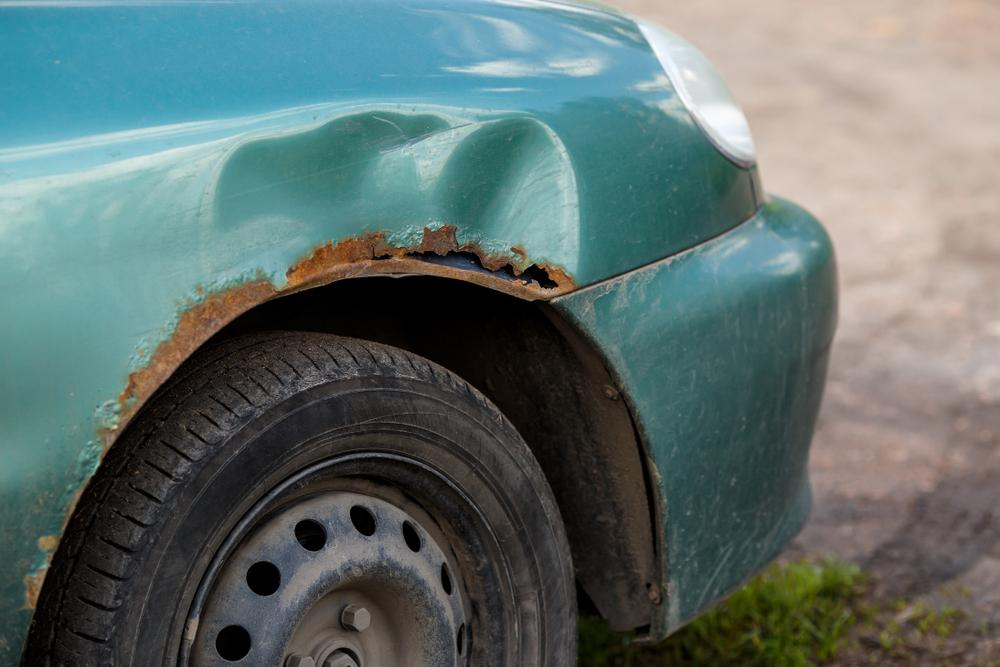crack: (371, 247, 566, 293)
dent: (209, 108, 585, 286)
